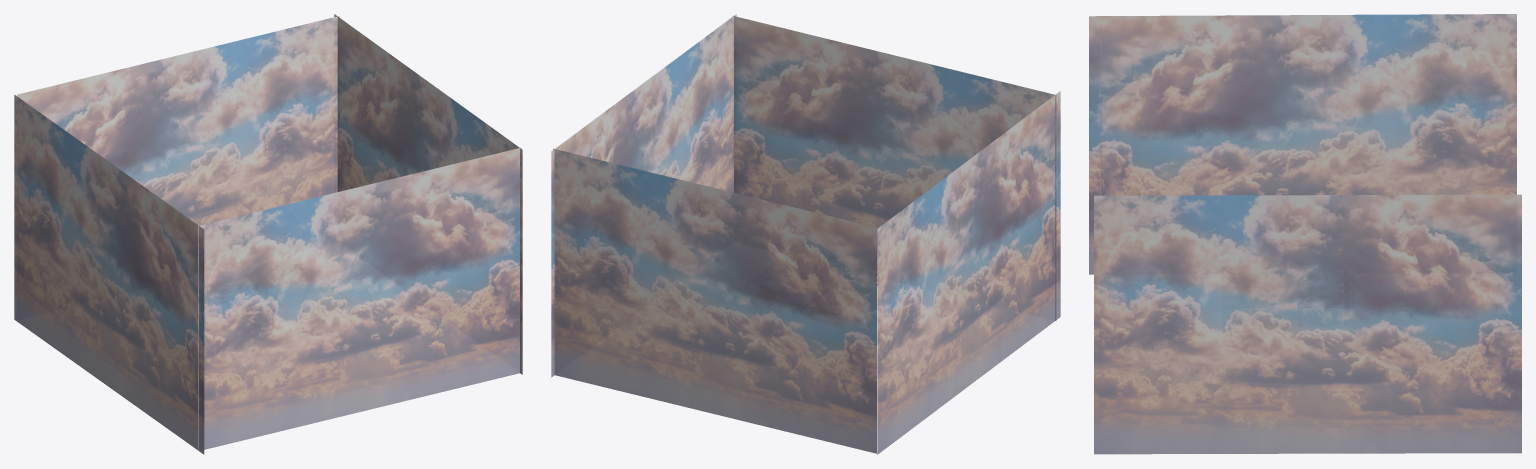
File: environment4.glb
3 views of the same model, side by side, from view 1: azimuth 30°, elevation 25°; view 2: azimuth 150°, elevation 25°; view 3: azimuth 270°, elevation 25° (orthographic). The views are drawn at different scales.
Visible parts, largest first — view 1: ImagePaste-240323-164547.001, ImagePaste-240323-164547.002, ImagePaste-240323-164547, ImagePaste-240323-164547.003; view 2: ImagePaste-240323-164547, ImagePaste-240323-164547.001, ImagePaste-240323-164547.002, ImagePaste-240323-164547.003; view 3: ImagePaste-240323-164547.003, ImagePaste-240323-164547.002.
Boxes of the visible parts, x1,y1,x2,y2 form: ImagePaste-240323-164547.001: (198, 148, 521, 451); ImagePaste-240323-164547.002: (14, 94, 204, 454); ImagePaste-240323-164547: (17, 16, 339, 225); ImagePaste-240323-164547.003: (334, 14, 522, 374); ImagePaste-240323-164547: (553, 148, 876, 453); ImagePaste-240323-164547.001: (732, 16, 1056, 320); ImagePaste-240323-164547.002: (877, 91, 1060, 454); ImagePaste-240323-164547.003: (551, 14, 736, 377); ImagePaste-240323-164547.003: (1094, 194, 1521, 454); ImagePaste-240323-164547.002: (1089, 14, 1516, 274).
Size of the model in its own units: 119 by 78.67 by 119.
20 materials, 16 textured.
